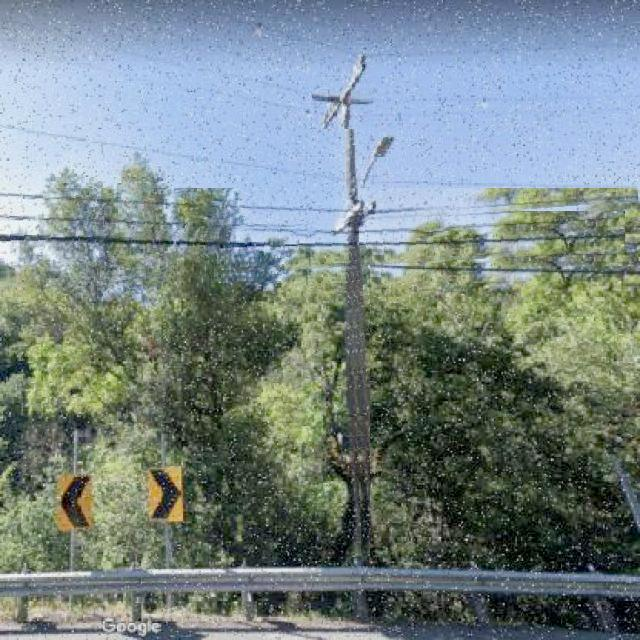crossarm: (312, 51, 371, 129), (337, 232, 374, 254)
pole: (348, 104, 370, 518), (367, 525, 370, 560)
wire: (0, 211, 625, 261), (1, 188, 638, 220), (0, 235, 640, 251)
